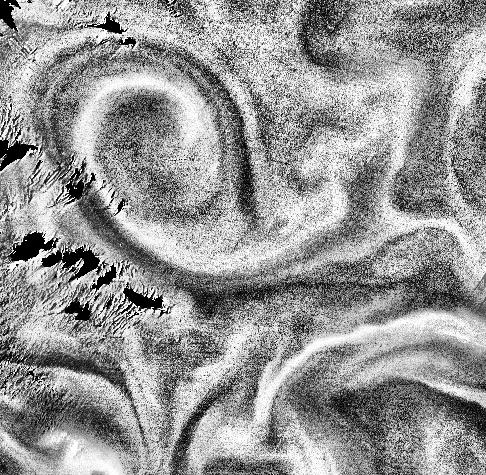AE: (41, 42, 248, 259)
